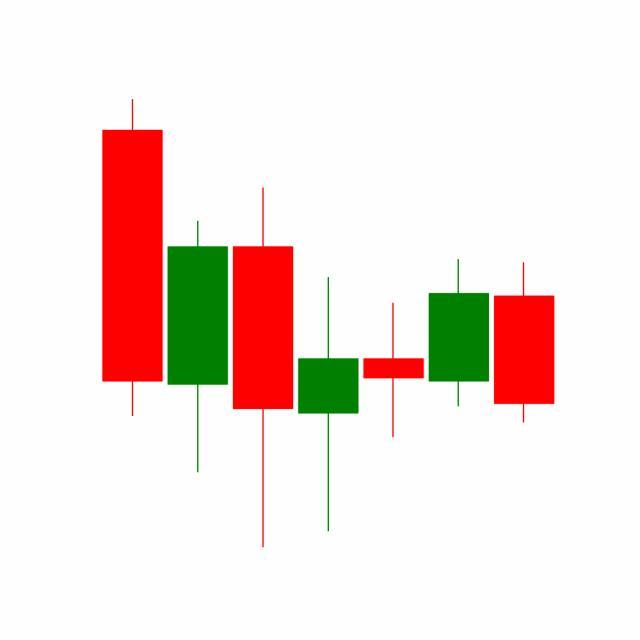Hikkake Pattern: (165, 183, 492, 548)
